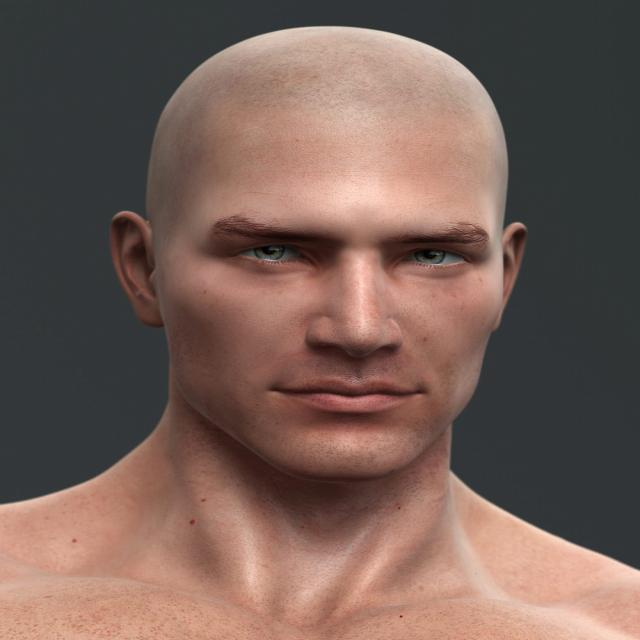earlobe: (107, 211, 165, 329), (490, 222, 530, 332)
